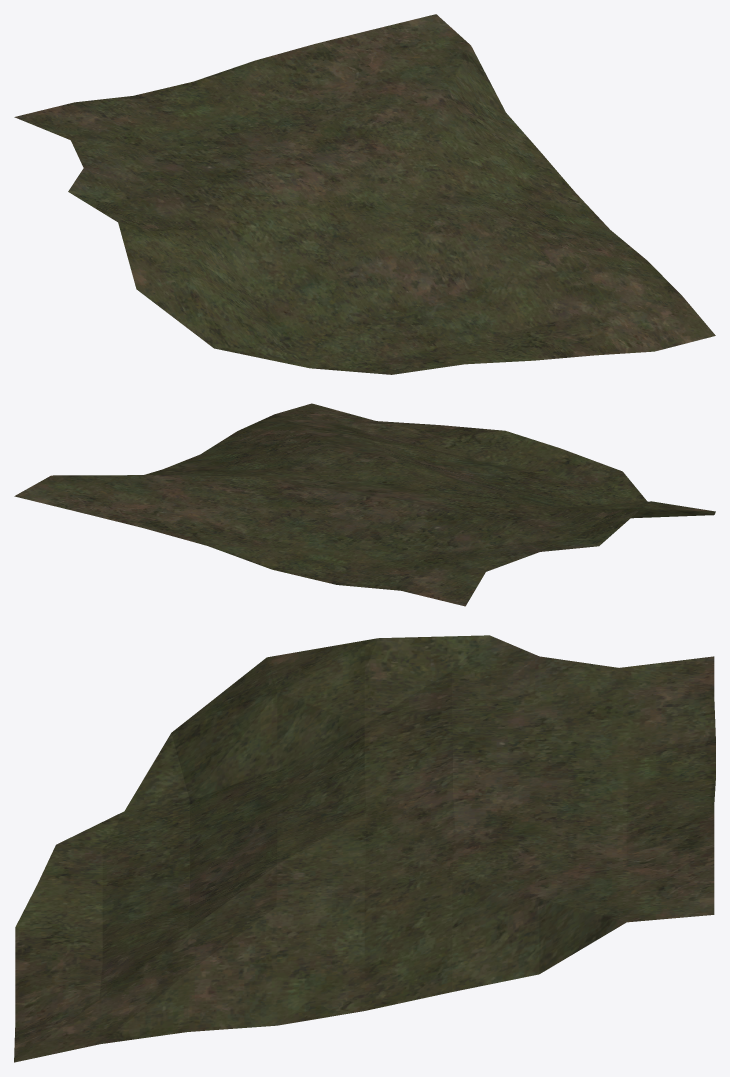
Rendered from blend_weeds15.fbx.
The picture shows the model from 3 angles, top to bottom: view 1: azimuth 30°, elevation 25°; view 2: azimuth 150°, elevation 25°; view 3: azimuth 270°, elevation 25°; orthographic projection. The views are drawn at different scales.
Visible parts, largest first — view 1: obj0.036; view 2: obj0.036; view 3: obj0.036.
Part boxes in pixels (x1=…): obj0.036: x1=14, y1=14, x2=715, y2=374; obj0.036: x1=14, y1=403, x2=715, y2=606; obj0.036: x1=14, y1=635, x2=715, y2=1062.
Size of the model in its own units: 19.86 by 4.71 by 20.09.
